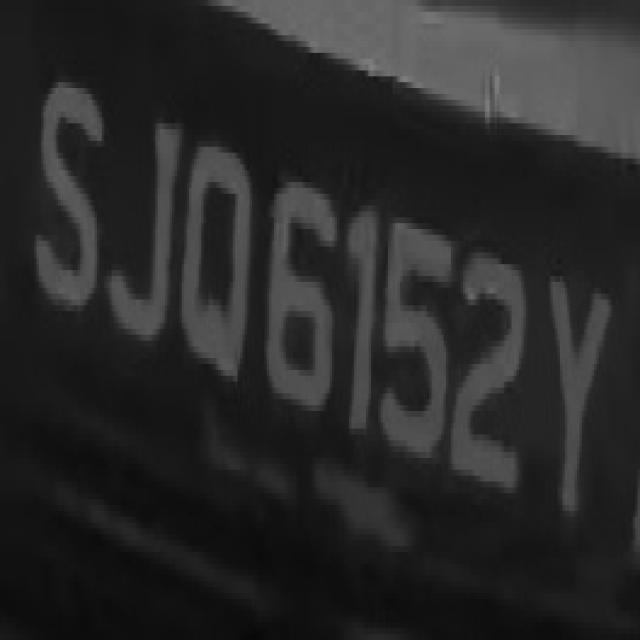1: (337, 153, 383, 464)
2: (456, 217, 533, 511)
5: (385, 182, 451, 493)
6: (262, 129, 339, 464)
J: (121, 88, 184, 358)
Q: (184, 100, 257, 393)
S: (32, 58, 112, 334)
Y: (546, 252, 618, 534)
